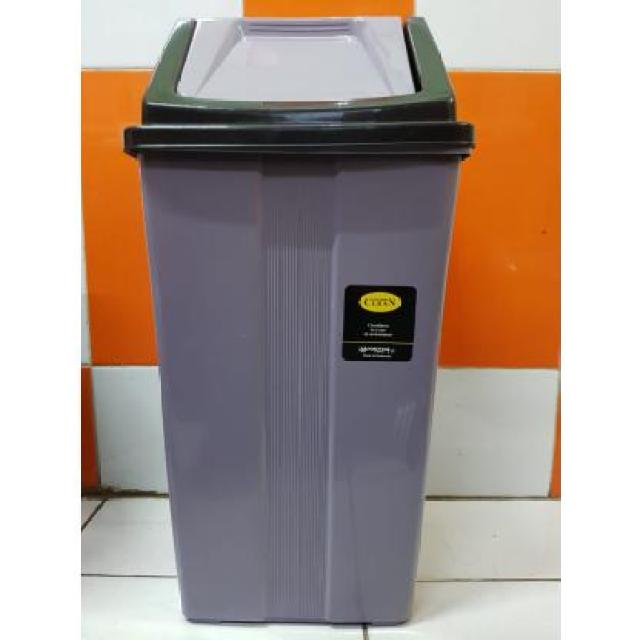garbage container: (117, 8, 486, 640)
